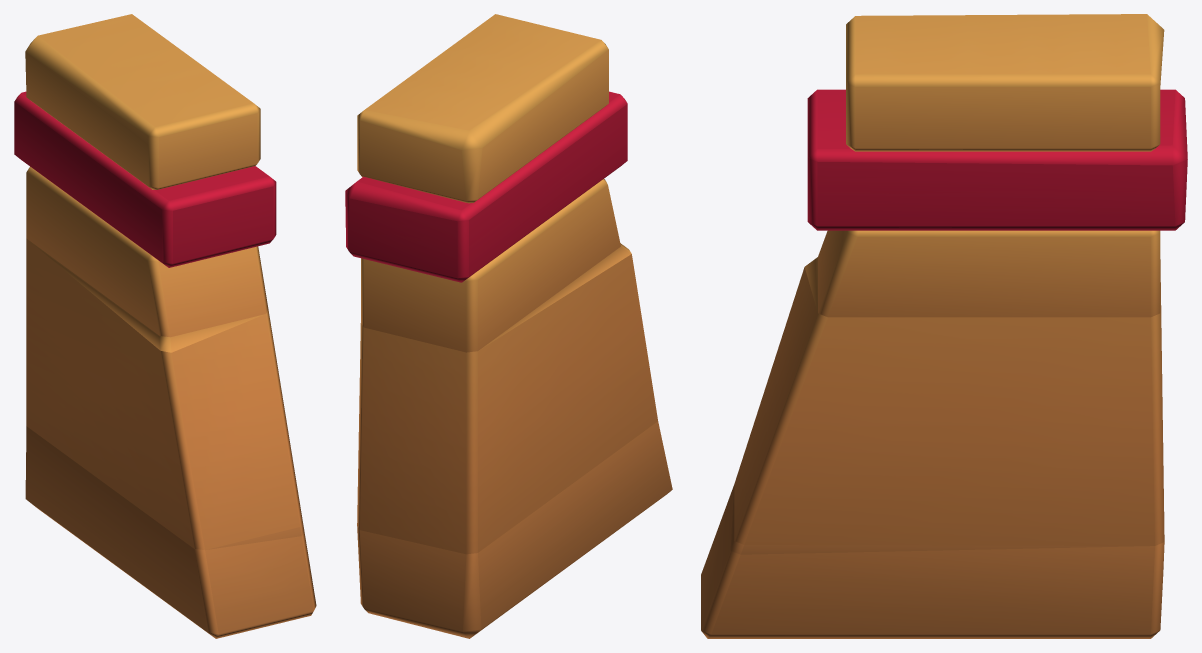
Rendered from wall_deco_2.fbx.
The picture shows the model from 3 angles, left to right: view 1: azimuth 30°, elevation 25°; view 2: azimuth 150°, elevation 25°; view 3: azimuth 270°, elevation 25°; orthographic projection. The views are drawn at different scales.
Parts seen in each view (by area): view 1: wall_deco_2; view 2: wall_deco_2; view 3: wall_deco_2.
Boxes of the visible parts, x1,y1,x2,y2 form: wall_deco_2: (14, 14, 316, 638); wall_deco_2: (345, 14, 672, 638); wall_deco_2: (701, 14, 1187, 638).
Bounding box in the file's own units: 109 × 414 × 319.
